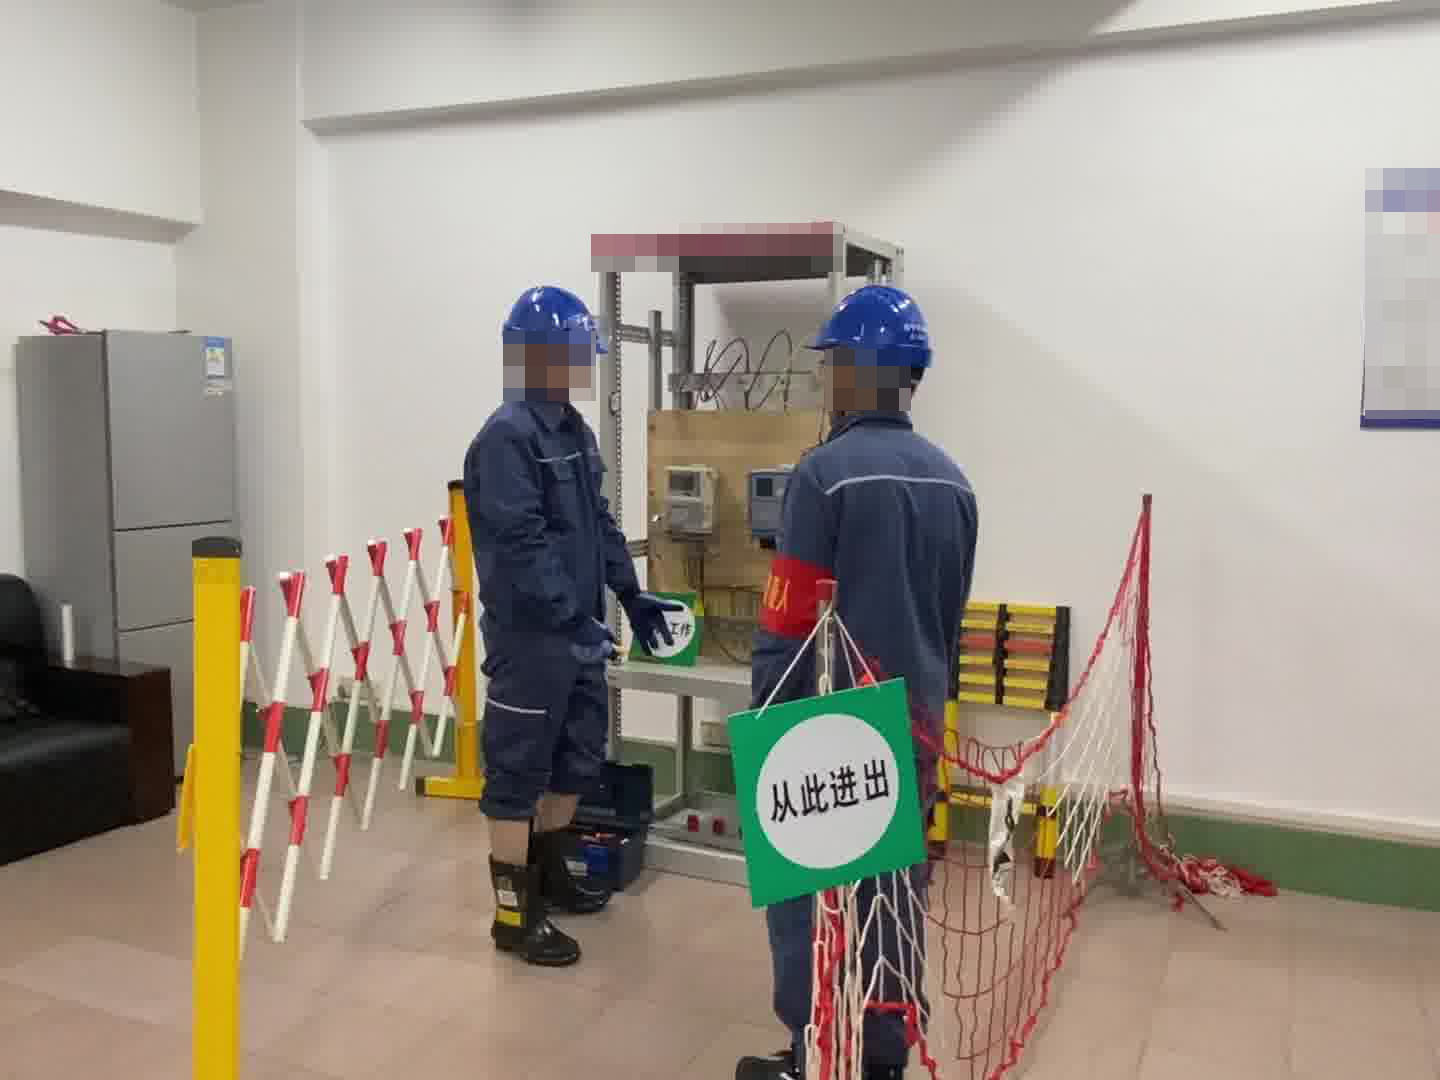badge: (758, 553, 836, 638)
downsuit: (477, 645, 616, 820)
glove: (619, 590, 683, 651), (560, 612, 625, 665)
halt: (808, 282, 937, 407), (498, 283, 604, 395)
inear: (827, 343, 873, 412), (507, 341, 559, 394)
intosign: (722, 673, 931, 911)
person: (455, 282, 655, 959), (740, 282, 986, 701)
shoe: (484, 826, 613, 966)
upsuit: (748, 416, 981, 700), (463, 396, 621, 629)
worksign: (630, 593, 705, 670)
wrongbottom: (475, 772, 534, 875), (538, 764, 590, 835)
